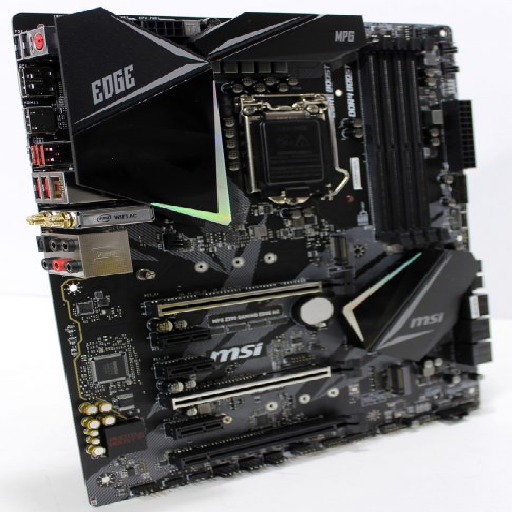CPU: (234, 88, 340, 202)
GPU: (149, 265, 351, 318), (170, 418, 359, 468), (168, 360, 361, 408)
MOTHERBOARD: (12, 10, 496, 509)
RAM: (354, 38, 441, 245)
SSD: (330, 235, 352, 261)
